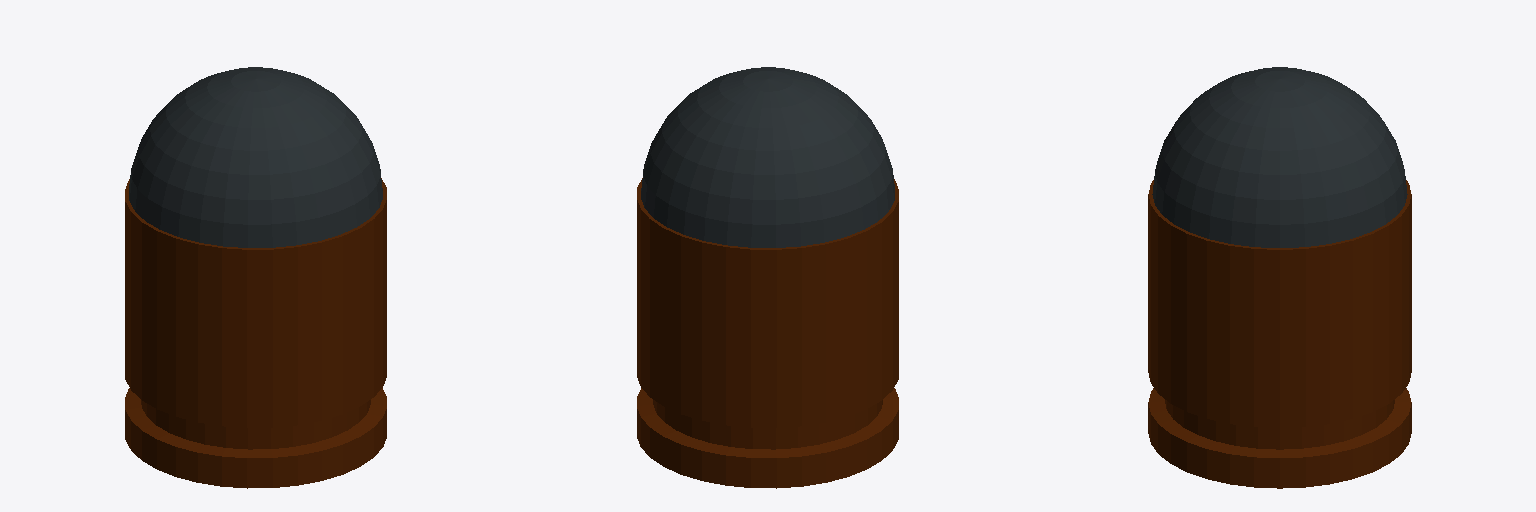
Rendered from Bullet.obj.
3 views of the same model, side by side, from view 1: azimuth 30°, elevation 25°; view 2: azimuth 150°, elevation 25°; view 3: azimuth 270°, elevation 25° (orthographic).
Parts seen in each view (by area): view 1: Cylinder, Sphere; view 2: Cylinder, Sphere; view 3: Cylinder, Sphere.
Boxes of the visible parts, x1=… form: Cylinder: x1=125, y1=178, x2=386, y2=488; Sphere: x1=129, y1=67, x2=382, y2=247; Cylinder: x1=637, y1=178, x2=898, y2=488; Sphere: x1=641, y1=67, x2=894, y2=247; Cylinder: x1=1148, y1=180, x2=1411, y2=488; Sphere: x1=1152, y1=67, x2=1407, y2=247.
Bounding box in the file's own units: 2 × 2.97 × 2.